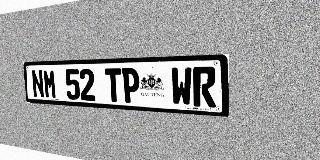2: (79, 69, 95, 101)
5: (65, 69, 81, 100)
M: (43, 69, 57, 99)
N: (31, 69, 45, 98)
P: (121, 68, 140, 103)
R: (193, 66, 216, 107)
T: (105, 68, 122, 102)
W: (171, 67, 192, 106)
